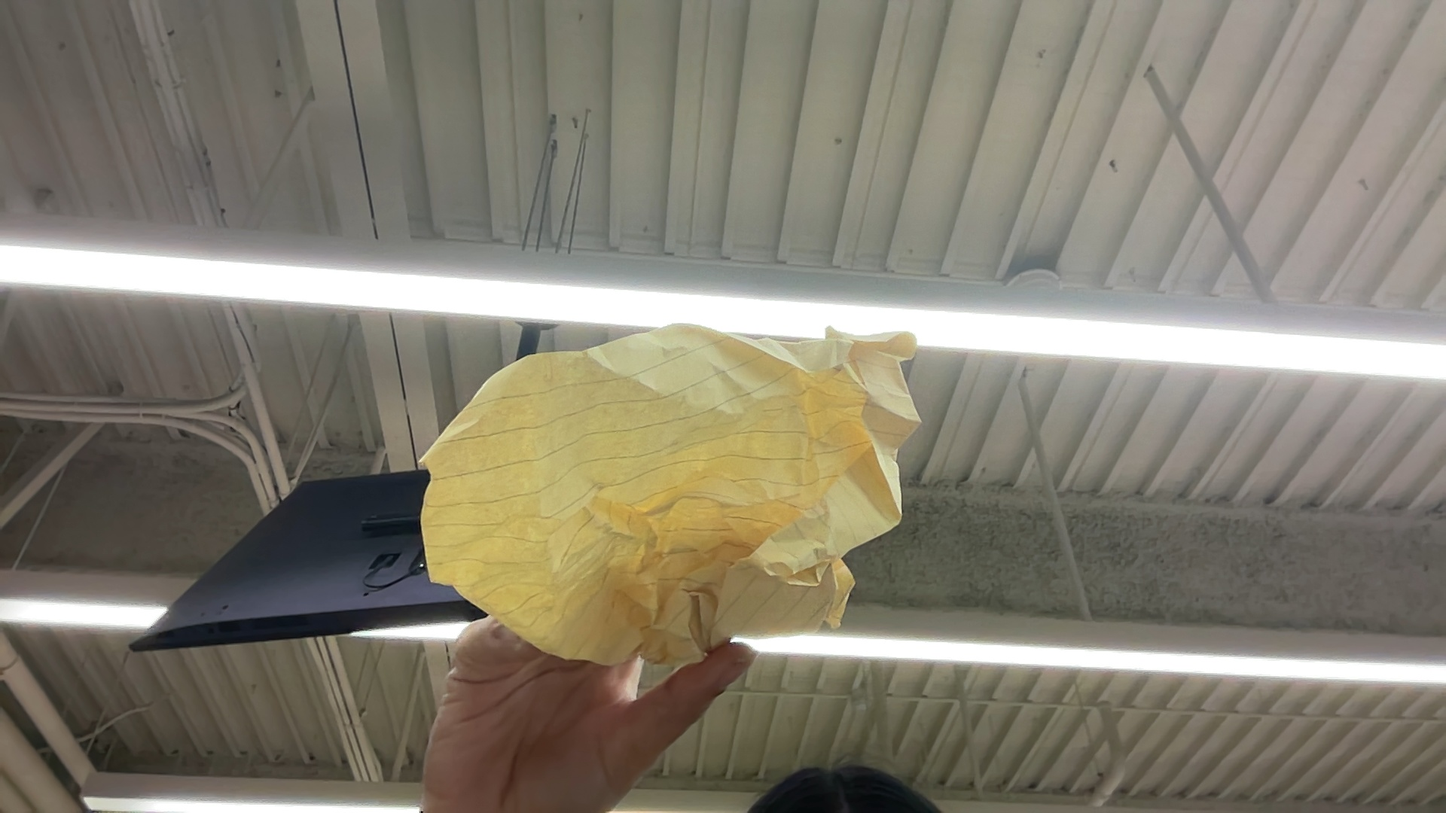Paper: (435, 318, 903, 672)
